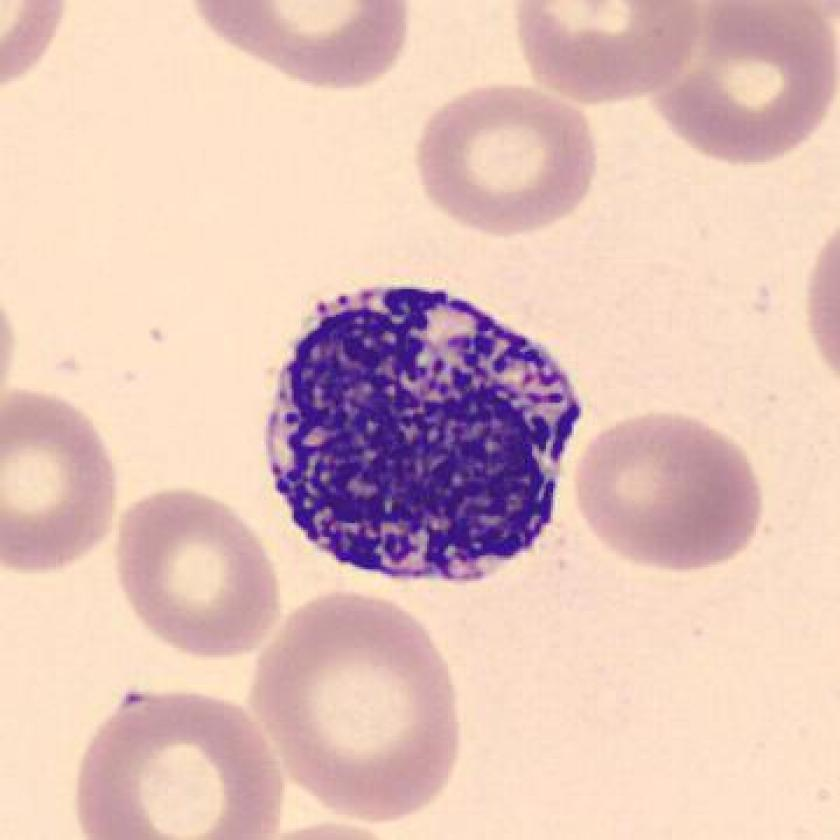basophil: (253, 281, 596, 598)
